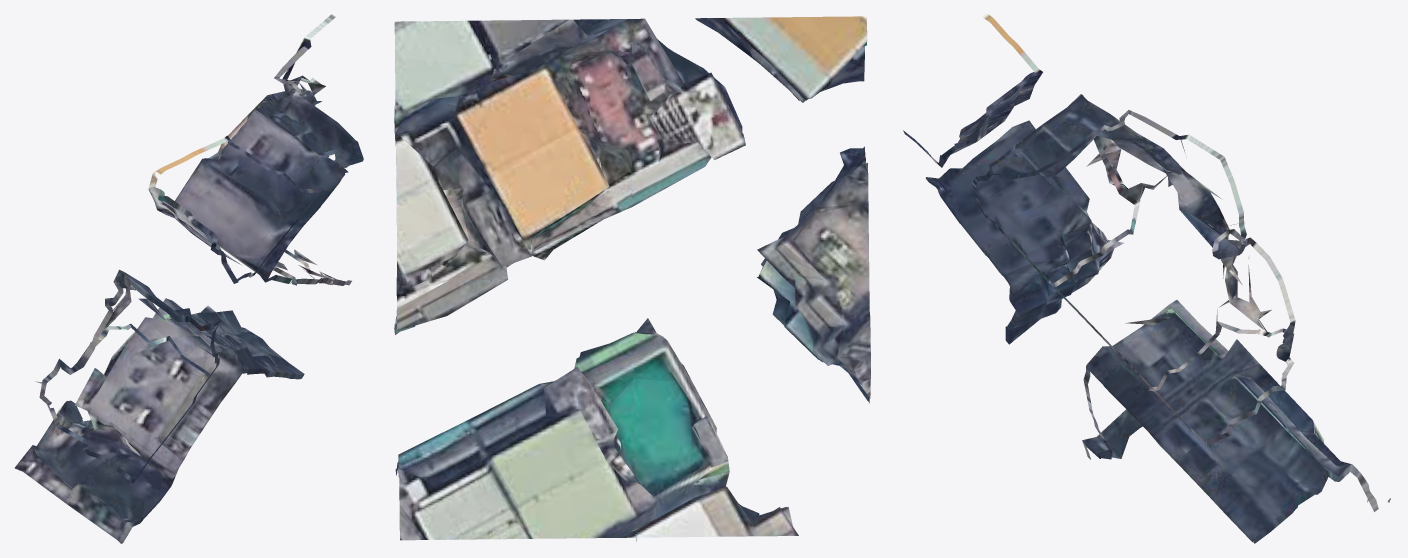
3 views of the same model, side by side, from view 1: azimuth 30°, elevation 25°; view 2: azimuth 150°, elevation 25°; view 3: azimuth 270°, elevation 25° (orthographic). The views are drawn at different scales.
Size of the model in its own units: 35.91 by 39.84 by 40.11.
2 materials, 2 textured.
